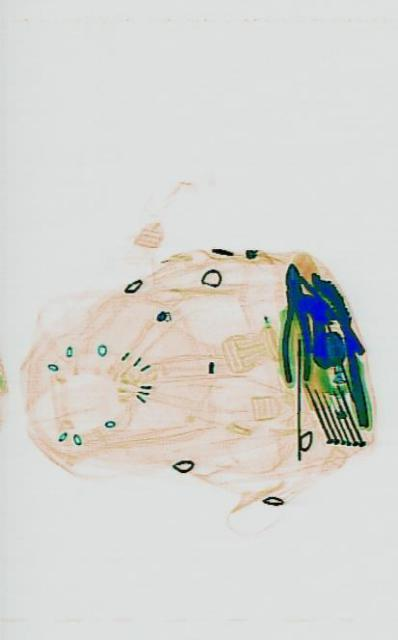Pliers: (275, 259, 310, 383)
